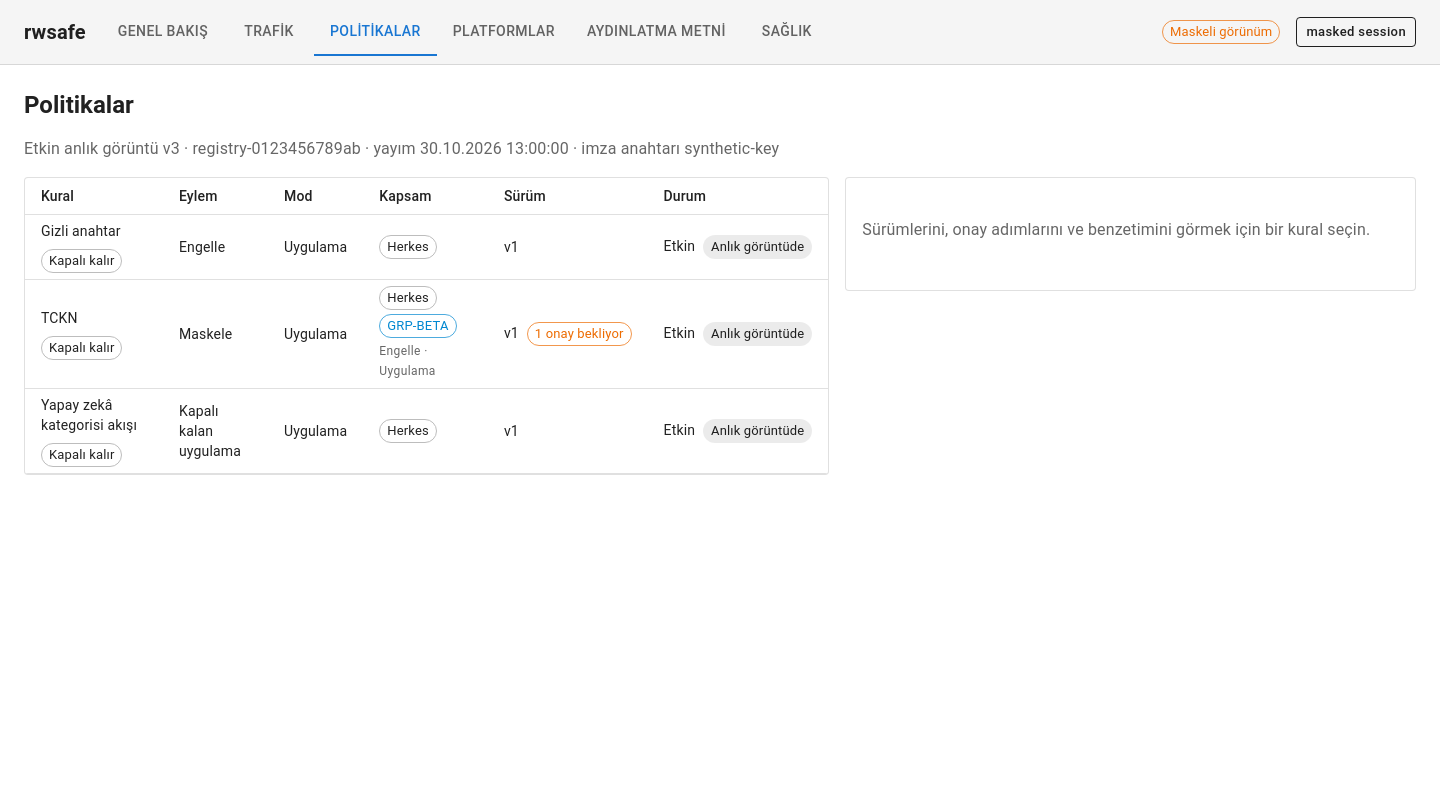
Scenario: policies screen › shows a masked session the registry without any action
Click the text "TCKN".
click(82, 335)  # box x1=41 y1=310 x2=122 y2=360
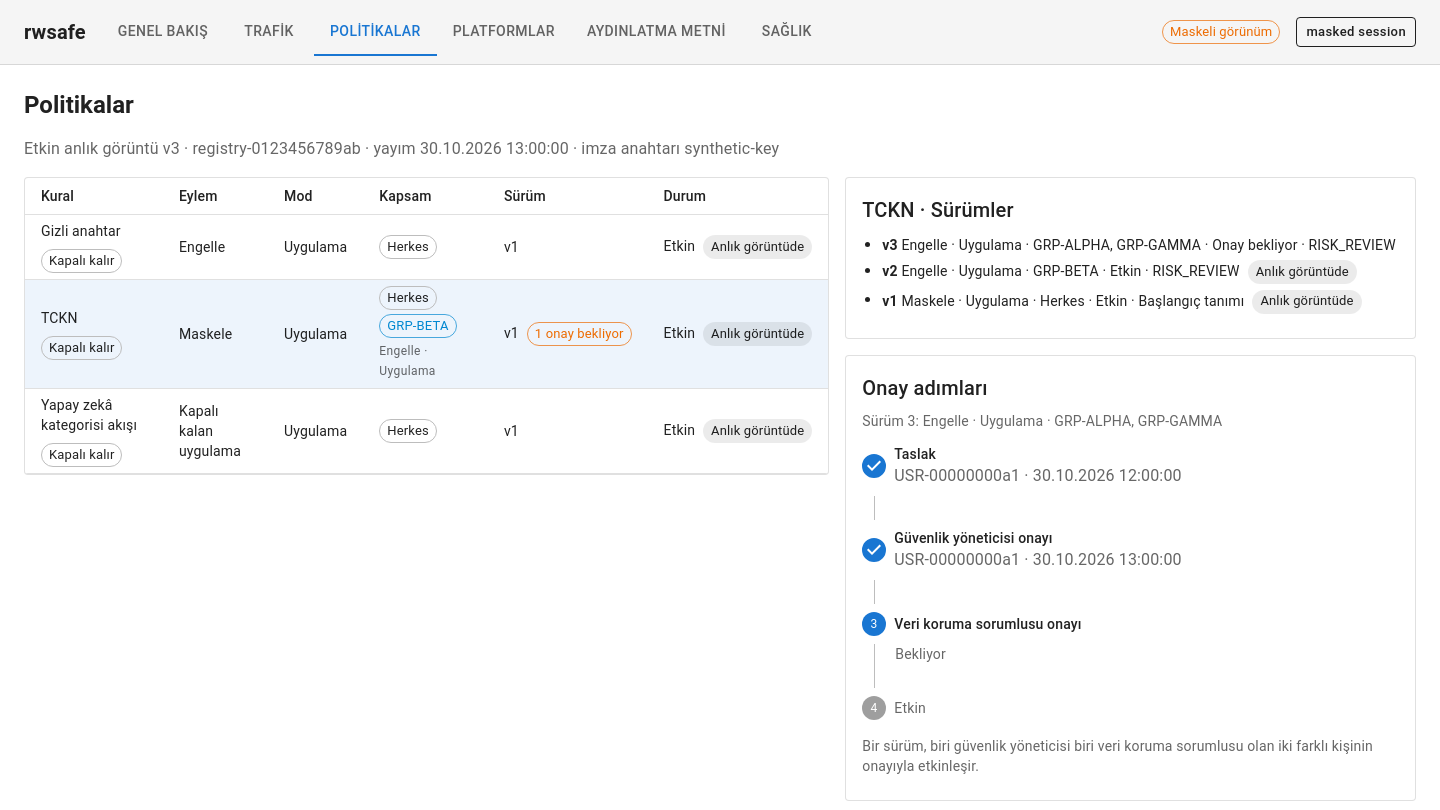
Expected: the text "Maskeli görünüm" is shown, x1=1163 y1=22 x2=1279 y2=42
Expected: the text "Güvenlik yöneticisi onayı" is shown, x1=894 y1=530 x2=1053 y2=546
